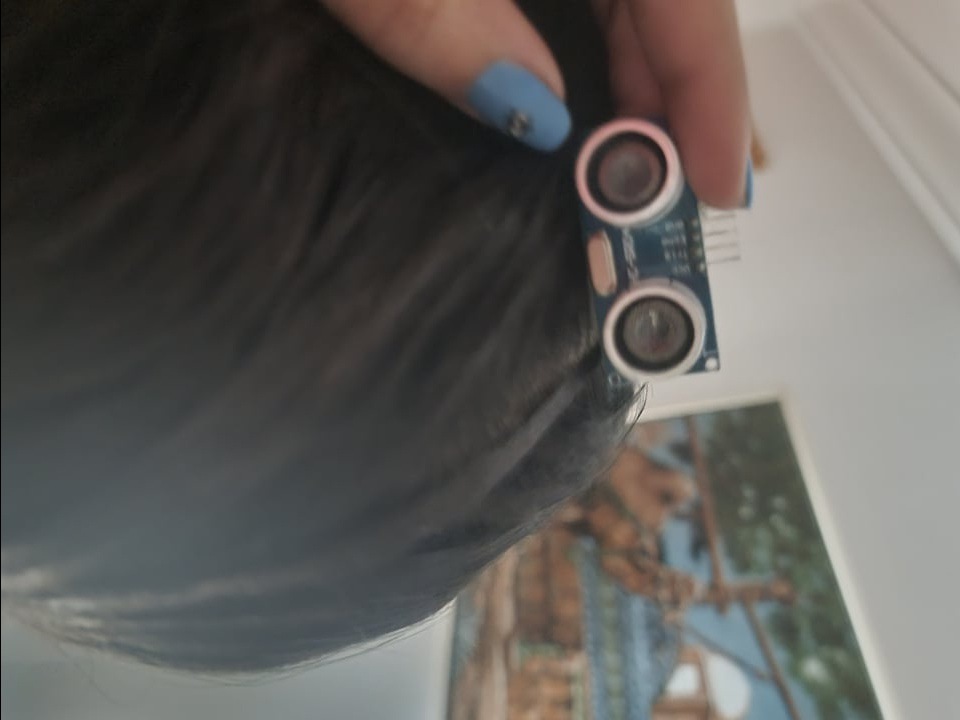SENSOR: (567, 106, 716, 382)
